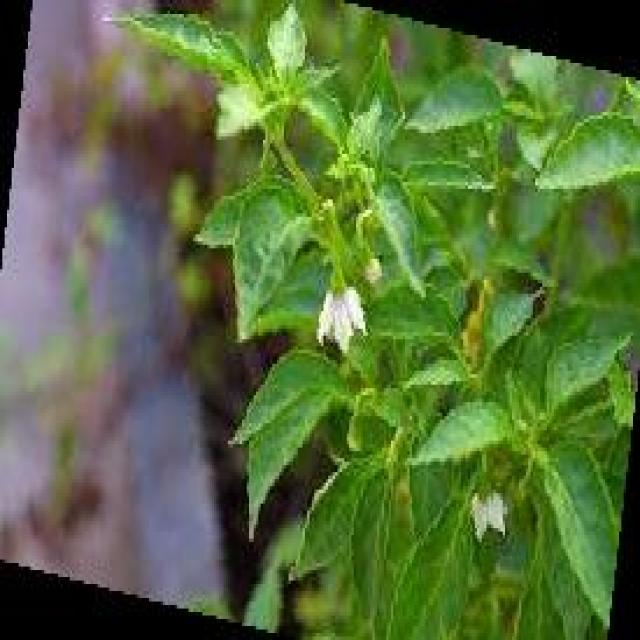Mosaic_virus: (222, 150, 331, 336), (406, 359, 511, 483), (537, 87, 640, 199), (404, 61, 528, 147), (368, 150, 420, 306)
